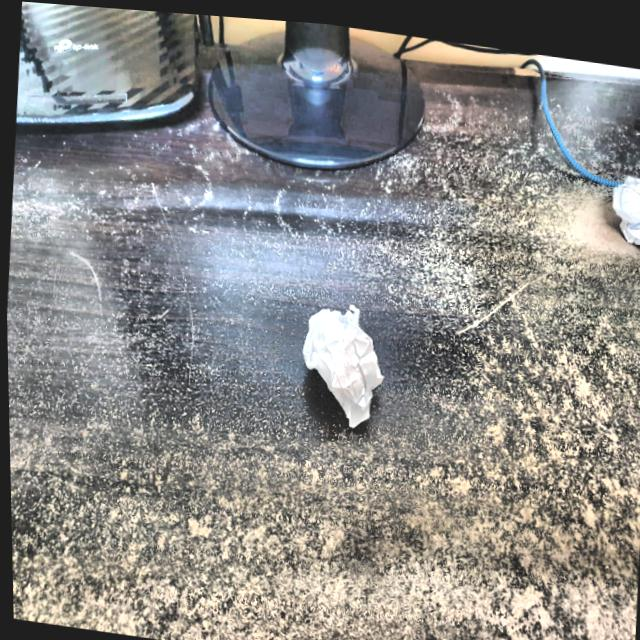Paper: (293, 291, 391, 433)
